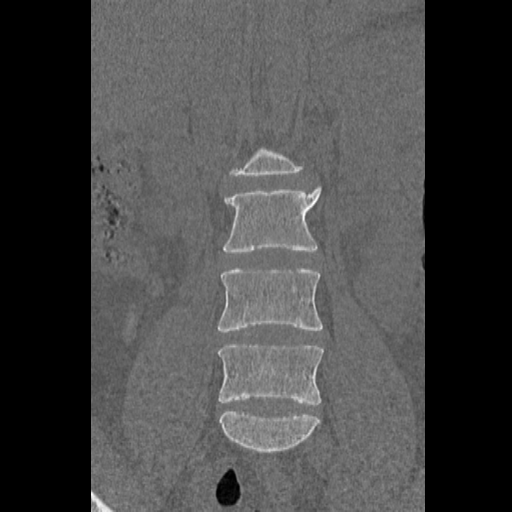bone: (215, 267, 324, 333), (218, 184, 320, 252), (216, 342, 323, 406), (218, 411, 320, 451), (233, 147, 303, 175), (92, 492, 113, 512)
